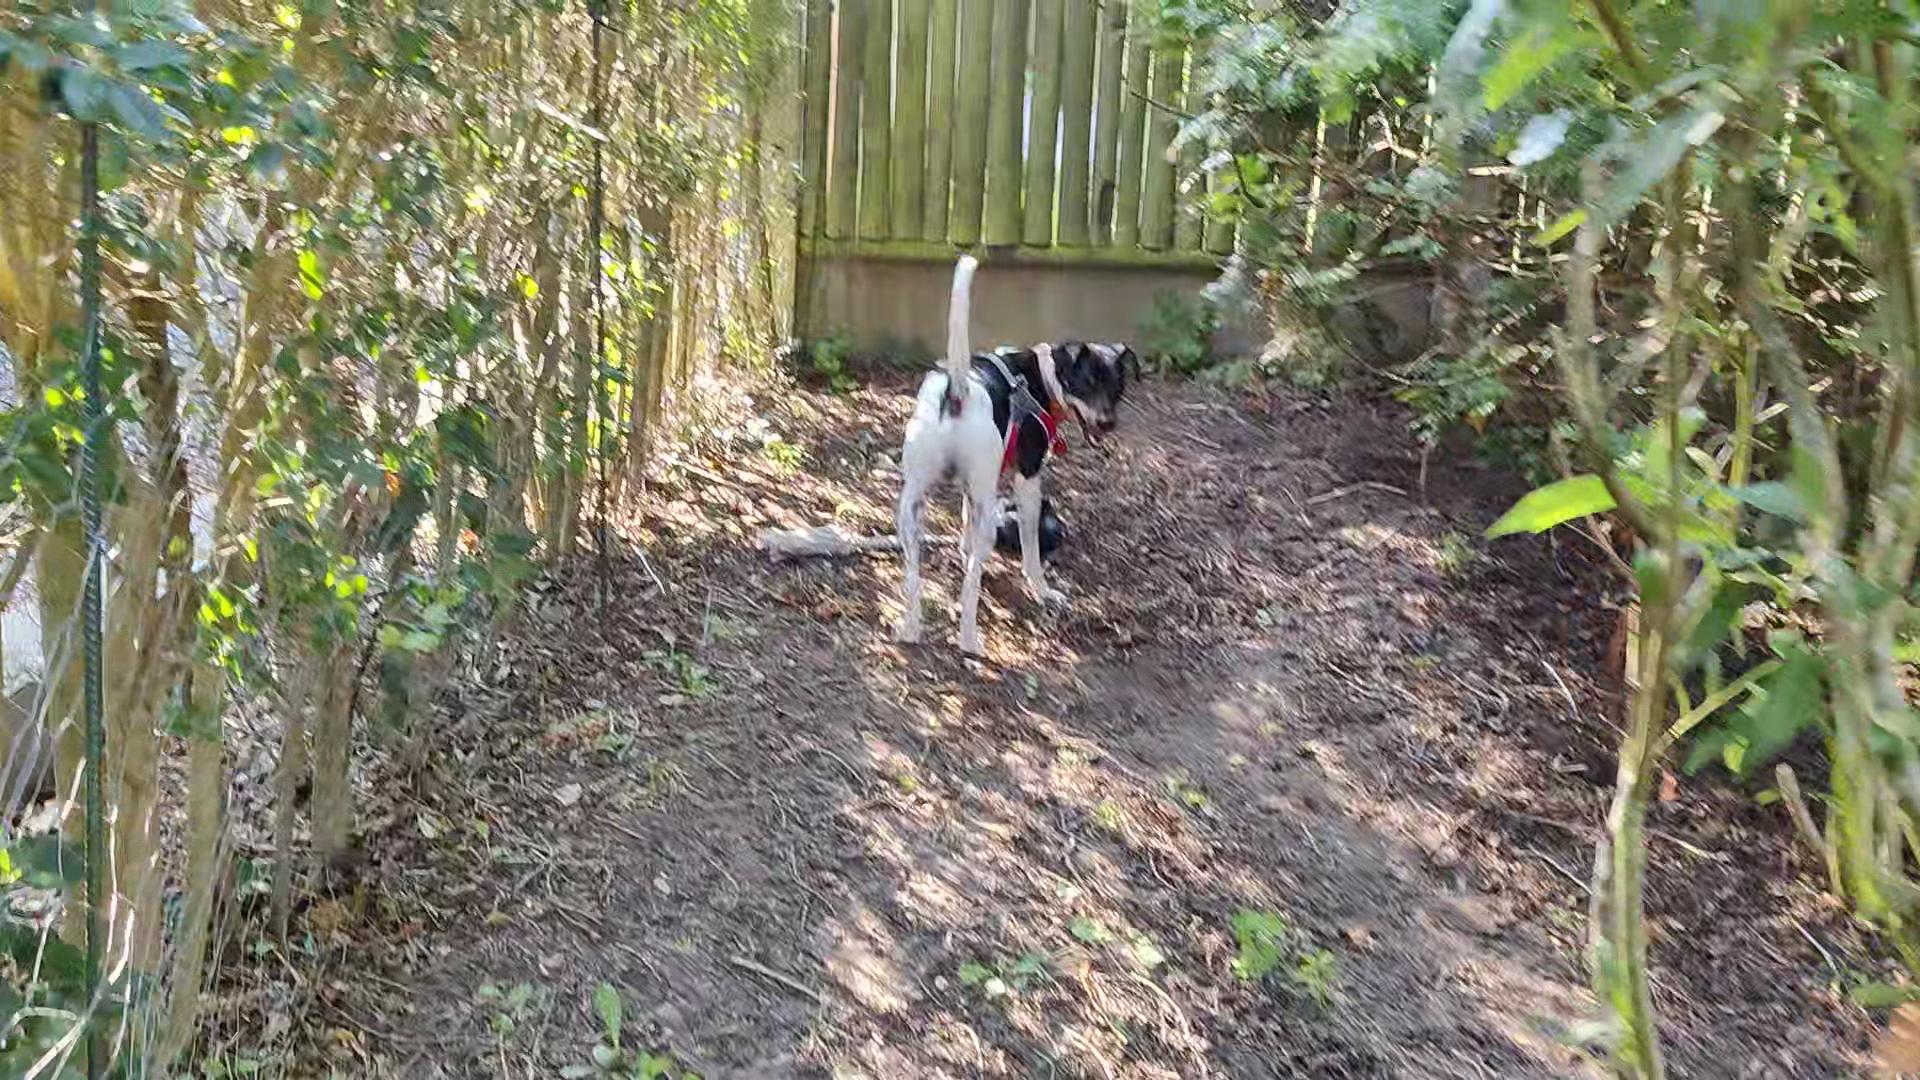Dog: (884, 252, 1149, 658)
